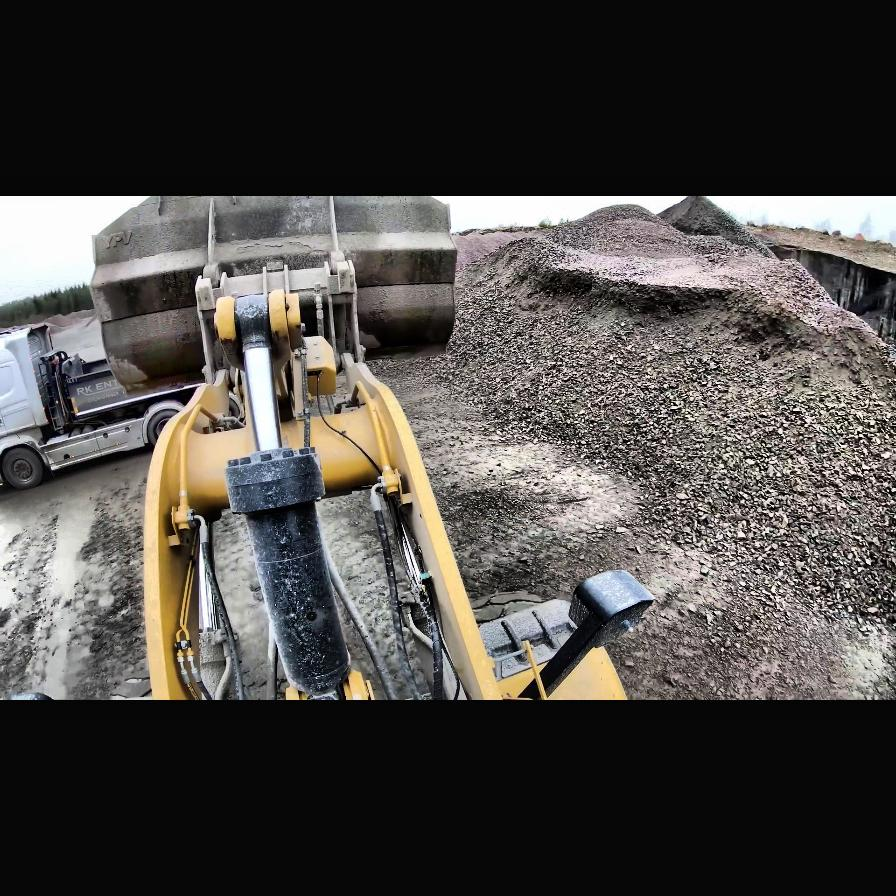anchor: (215, 292, 303, 352)
pile of gravel: (495, 204, 896, 486)
